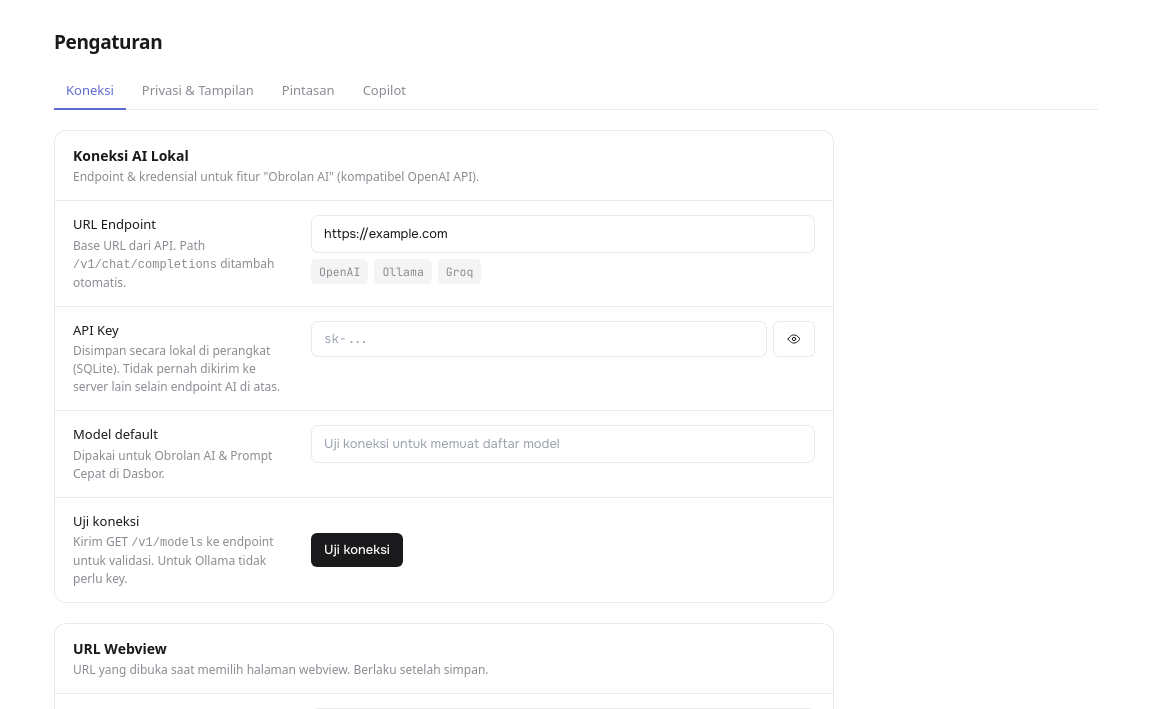
it: AI model selection › shows empty and error responses
Step 1. Click the button "Uji koneksi" → (357, 550), box [311,533,403,566]
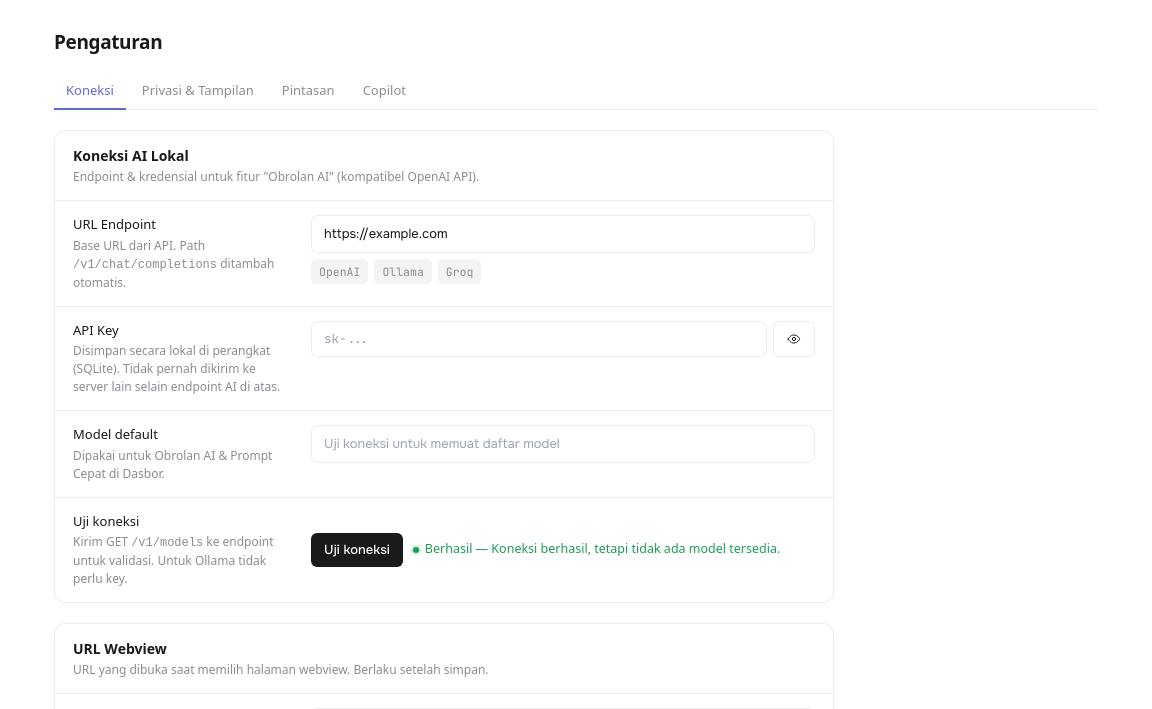
expect the text "Koneksi berhasil, tetapi tidak ada model tersedia." is shown: met, box [425,540,780,557]
